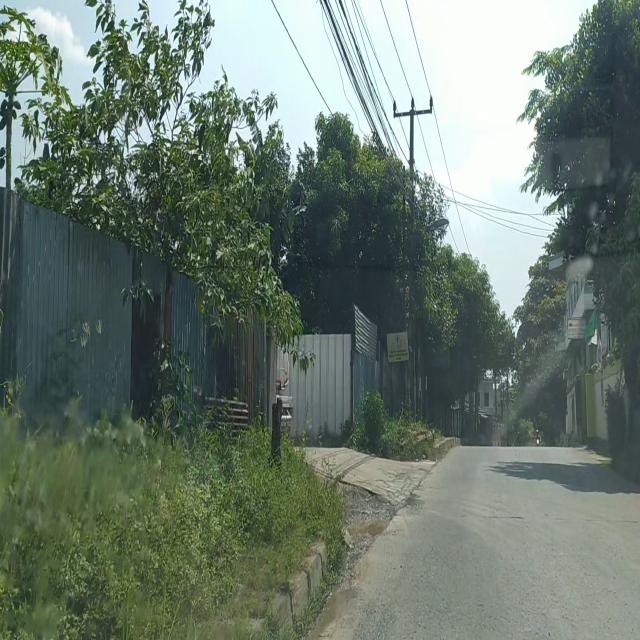Sewer Cover: (482, 515, 526, 523)
